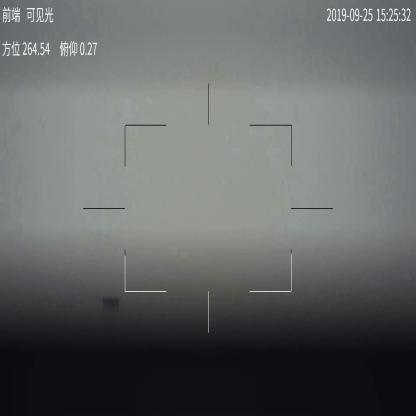uav: (100, 293, 121, 310)
